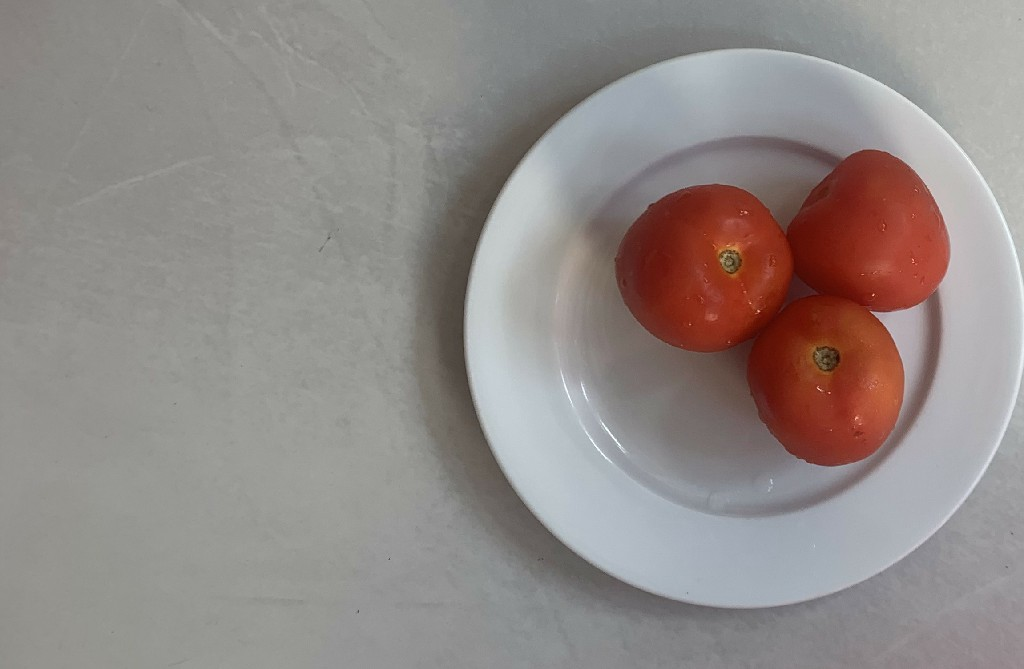OK: (618, 177, 793, 354), (740, 295, 914, 469), (781, 147, 953, 313)
